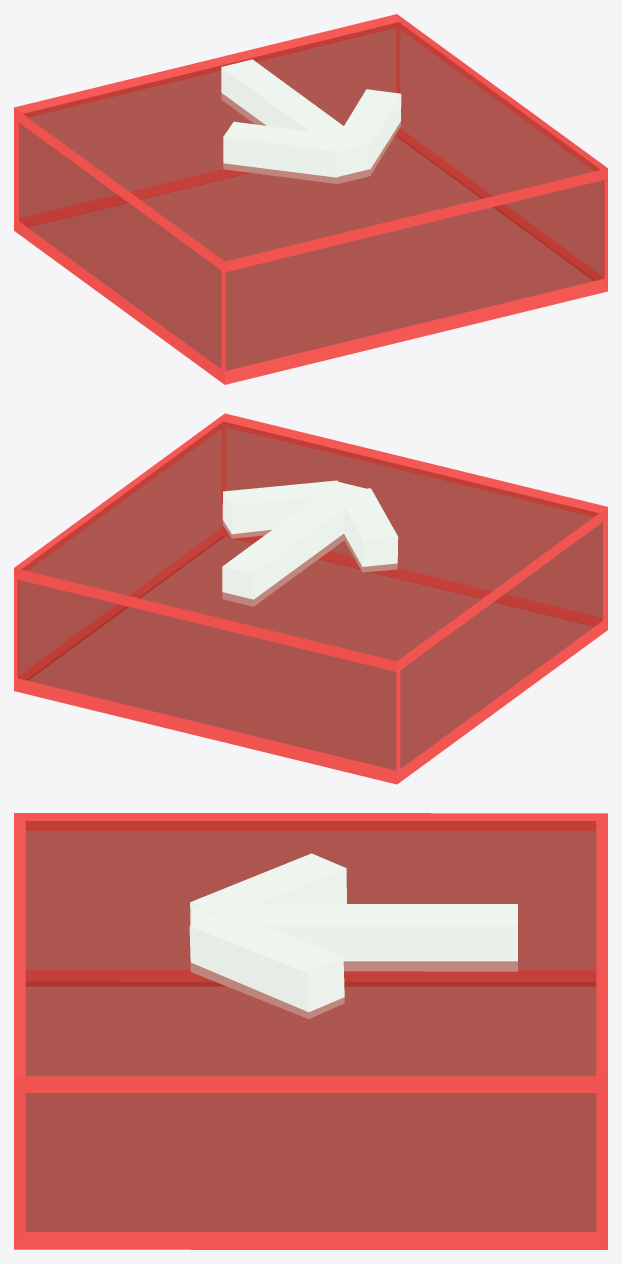
The model's file is lift_button_button_red.glb.
3 views of the same model, one above another, from view 1: azimuth 30°, elevation 25°; view 2: azimuth 150°, elevation 25°; view 3: azimuth 270°, elevation 25° (orthographic). The views are drawn at different scales.
Visible parts, largest first — view 1: Cube.243, Cube.241, Cube.248; view 2: Cube.243, Cube.241, Cube.248; view 3: Cube.243, Cube.241, Cube.248.
Boxes of the visible parts, bbox=[...] form: Cube.243: bbox=[19, 22, 604, 370]; Cube.241: bbox=[14, 14, 607, 384]; Cube.248: bbox=[221, 59, 401, 183]; Cube.243: bbox=[17, 421, 602, 770]; Cube.241: bbox=[14, 413, 607, 784]; Cube.248: bbox=[222, 480, 398, 606]; Cube.243: bbox=[25, 821, 596, 1231]; Cube.241: bbox=[14, 813, 607, 1249]; Cube.248: bbox=[189, 853, 517, 1018].
Size of the model in its own units: 0.0764 by 0.0281 by 0.0729.
